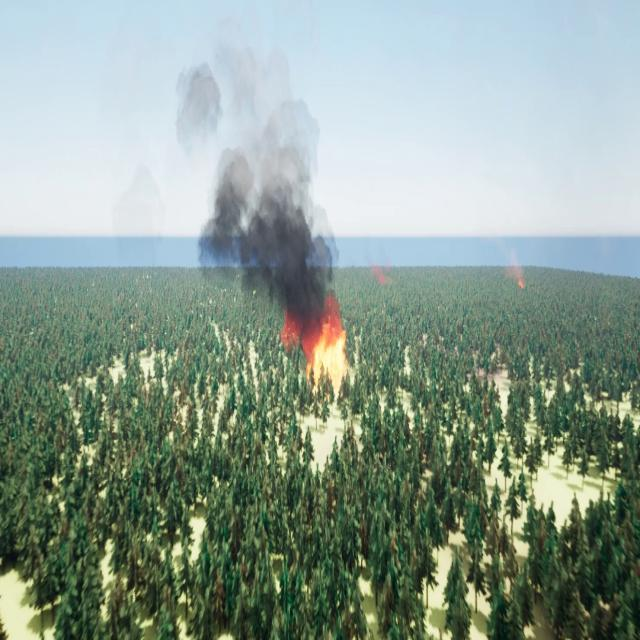fire: (296, 330, 355, 393)
smoke: (175, 25, 342, 328), (504, 243, 528, 297), (366, 251, 395, 289)
